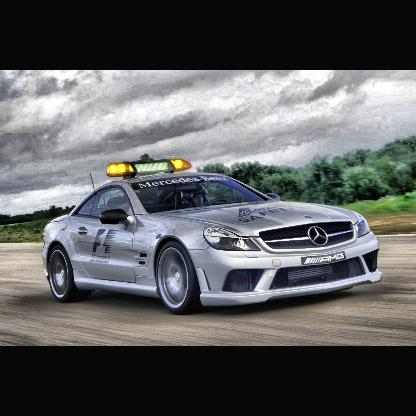Mercedes-Benz SL-Class Coupe 2009: (42, 173, 382, 315)
